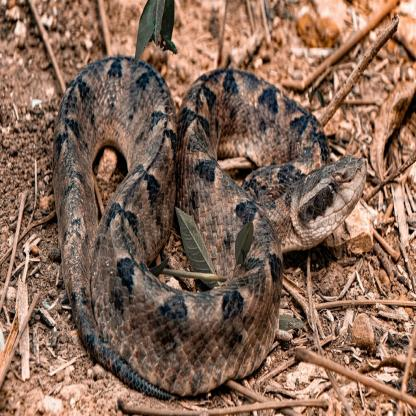Snake: (51, 50, 371, 388)
